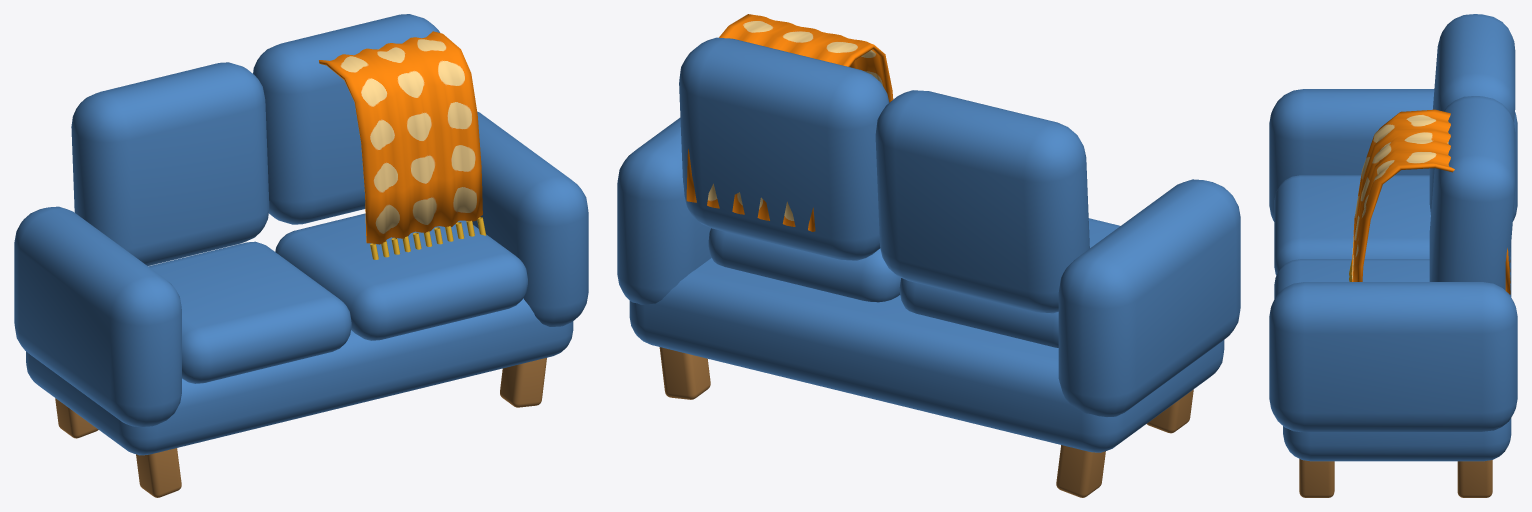
File: easy_couch_09.fbx
The picture shows the model from 3 angles, left to right: view 1: azimuth 30°, elevation 25°; view 2: azimuth 150°, elevation 25°; view 3: azimuth 270°, elevation 25°; orthographic projection. The views are drawn at different scales.
Parts seen in each view (by area): view 1: EC09_LOD0; view 2: EC09_LOD0; view 3: EC09_LOD0.
Boxes of the visible parts, box(x1,y1,x2,y2) form: EC09_LOD0: box(14, 14, 588, 497); EC09_LOD0: box(617, 14, 1240, 497); EC09_LOD0: box(1269, 14, 1517, 497).
Size of what is drawn, in the model's own units: 2.12 by 1.42 by 0.99.
4 materials, 1 textured.
